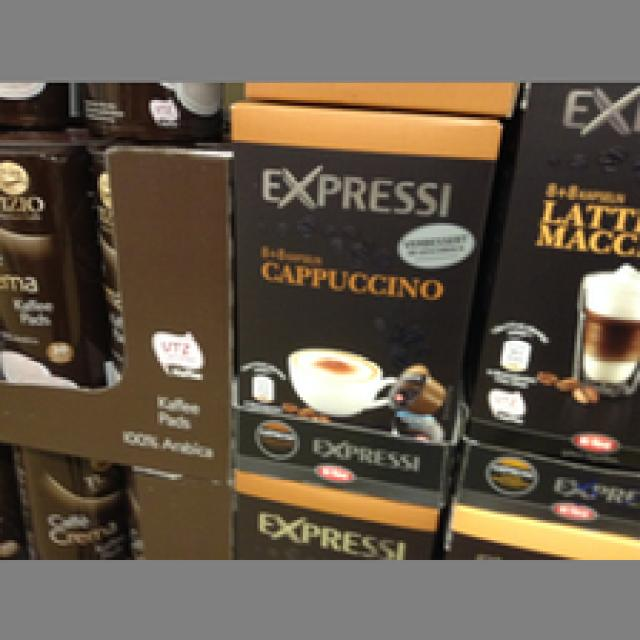groceries: (232, 97, 497, 443), (469, 83, 637, 460), (0, 83, 91, 380)
